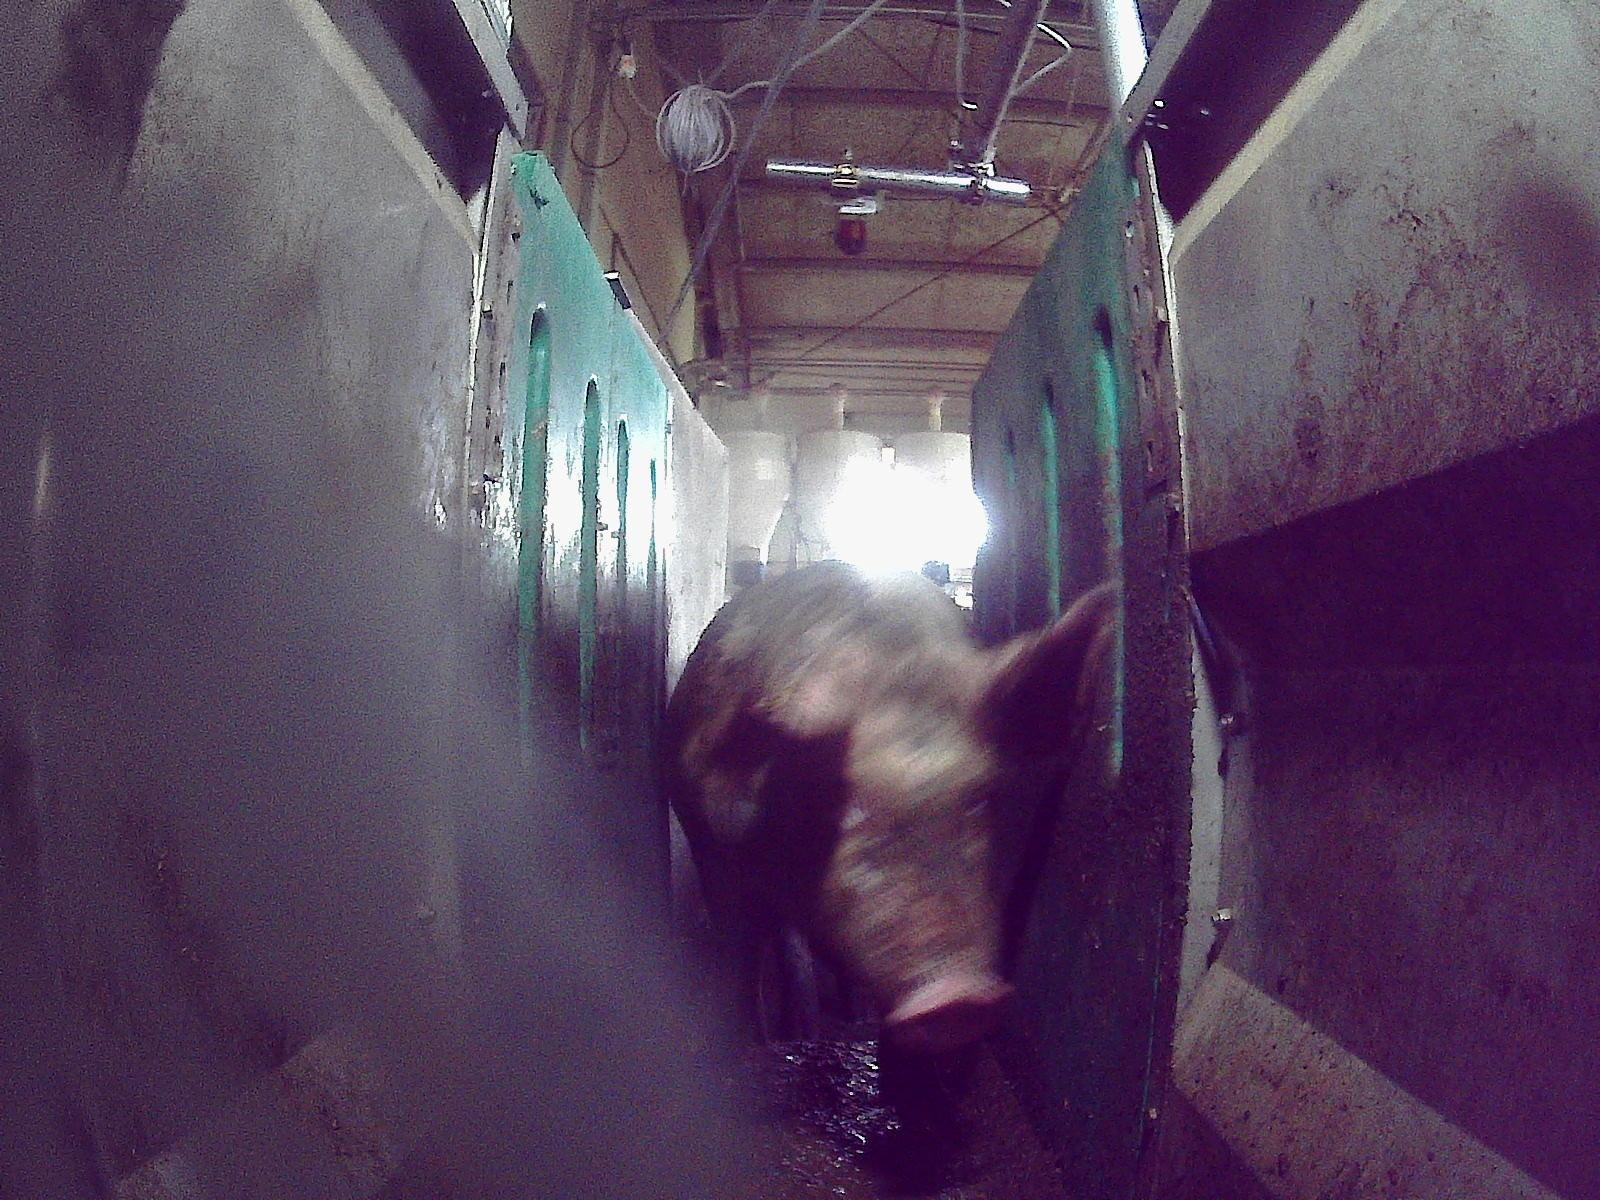Face: (779, 645, 1015, 1057)
